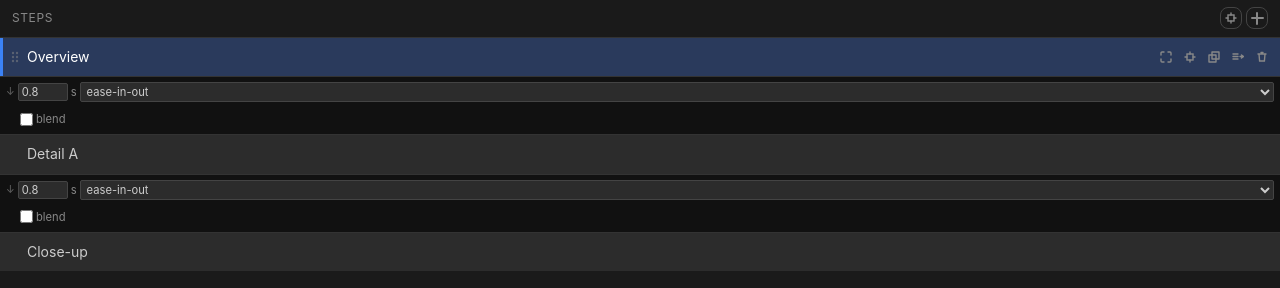
Test: StepList › commits rename on Enter
The image size is (1280, 288).
Double-click the text "Overview" at (58, 56), box 27,48 -> 90,65
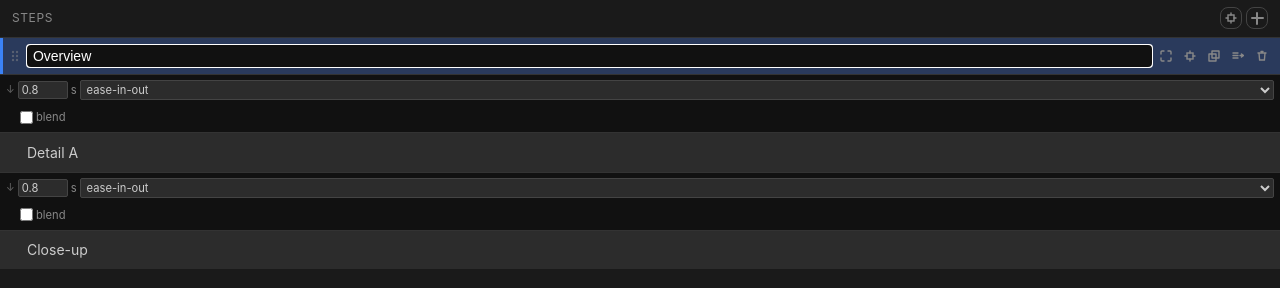
Replace the text in the field named "Step name" with "New Name" at (590, 56), box 27,45 -> 1152,67
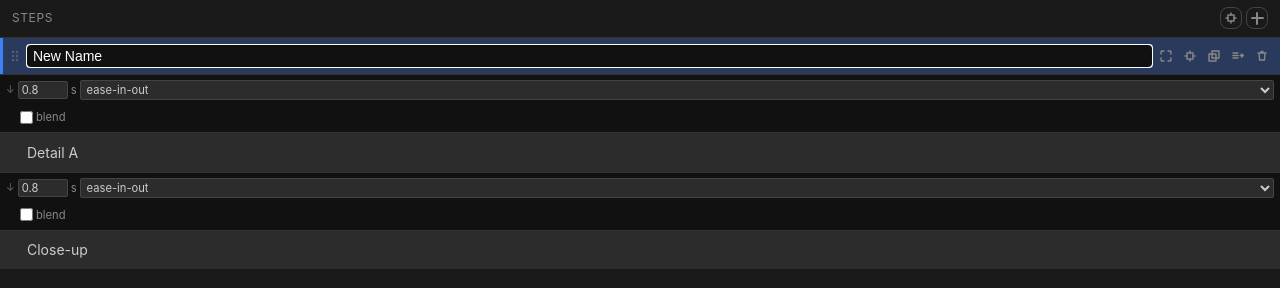
Press Enter
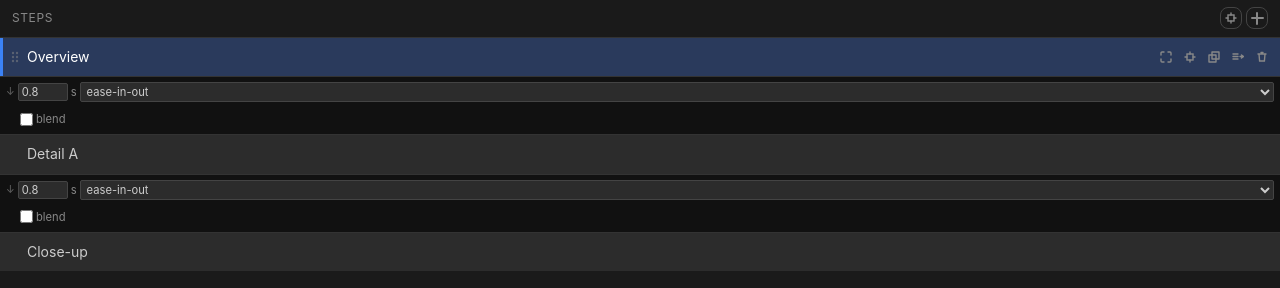
Check: the field is gone
